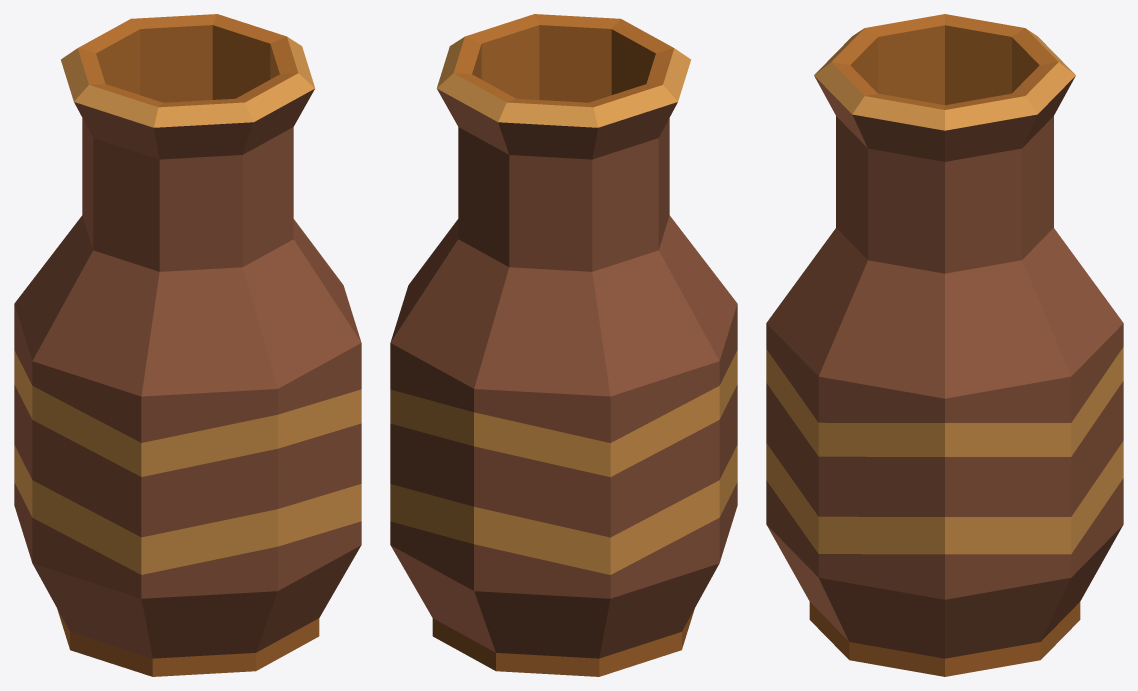
File: jug_painty.fbx
3 renders of one model, left to right at view 1: azimuth 30°, elevation 25°; view 2: azimuth 150°, elevation 25°; view 3: azimuth 270°, elevation 25°, orthographic.
Visible parts, largest first — view 1: Circle.002; view 2: Circle.002; view 3: Circle.002.
Part boxes in pixels (left/top/right/bottom): Circle.002: left=14, top=14, right=361, bottom=676; Circle.002: left=390, top=14, right=737, bottom=676; Circle.002: left=766, top=14, right=1123, bottom=676.
Size of the model in its own units: 19.5 by 33.58 by 19.5.
